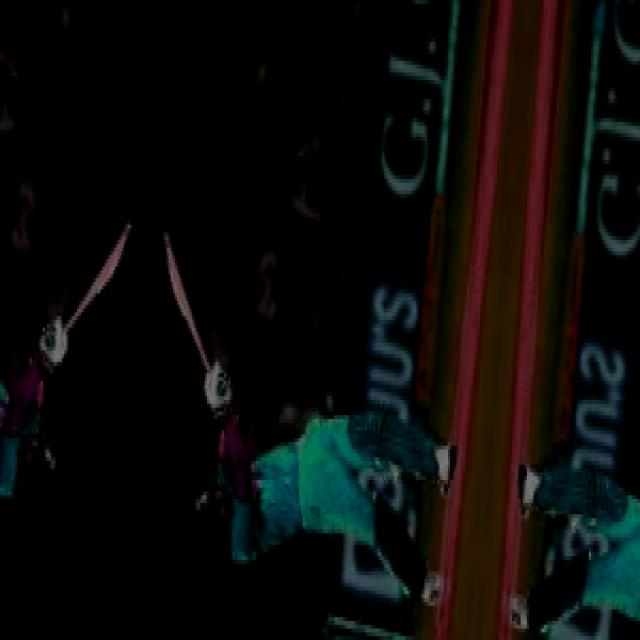toe: (160, 214, 178, 283)
